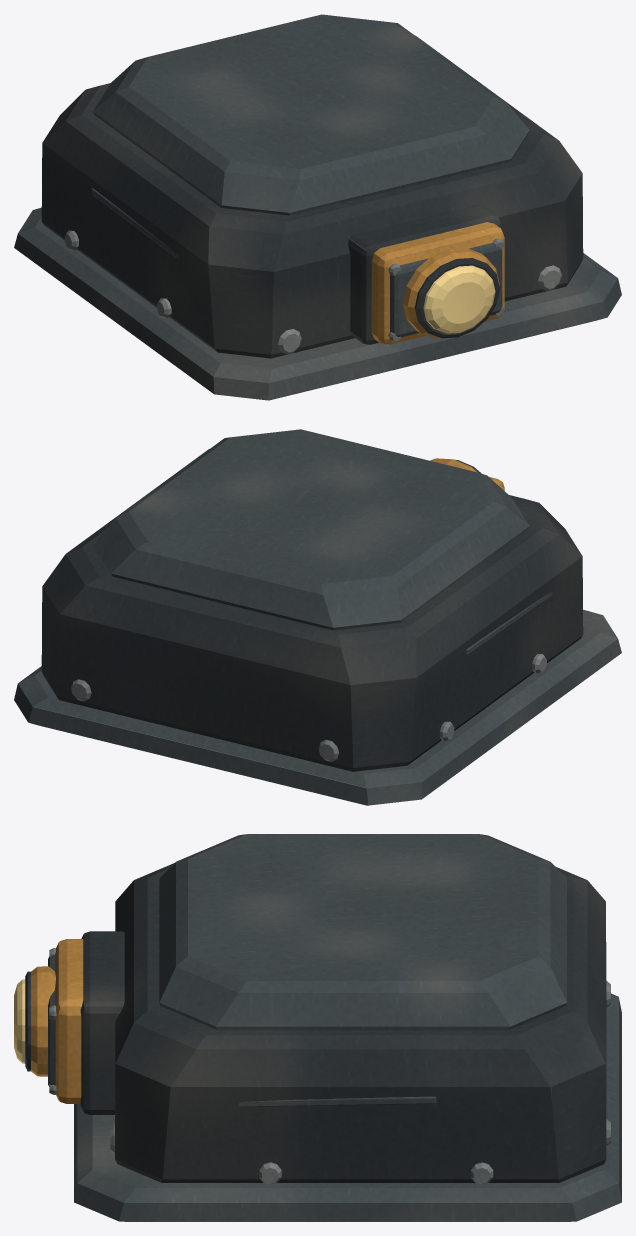
File: Casque_Ensemble.fbx
3 renders of one model, top to bottom at view 1: azimuth 30°, elevation 25°; view 2: azimuth 150°, elevation 25°; view 3: azimuth 270°, elevation 25°, orthographic. The views are drawn at different scales.
Parts seen in each view (by area): view 1: Casque_Ensemble; view 2: Casque_Ensemble; view 3: Casque_Ensemble.
Boxes of the visible parts, bbox=[...] form: Casque_Ensemble: bbox=[14, 14, 621, 400]; Casque_Ensemble: bbox=[14, 429, 621, 805]; Casque_Ensemble: bbox=[14, 834, 621, 1221].
Size of the model in its own units: 1.49 by 0.628 by 1.68.
1 material, 1 textured.
